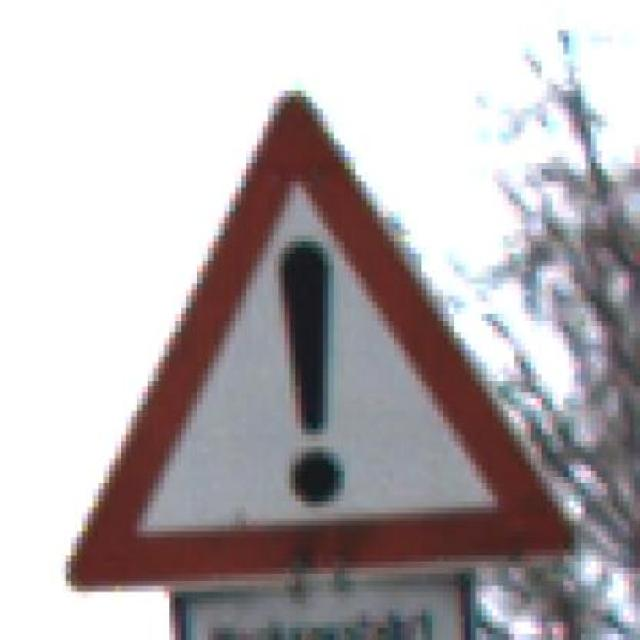Attention Please-: (48, 48, 586, 598)
